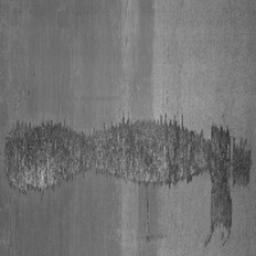Rolled pit: (5, 118, 251, 245)
